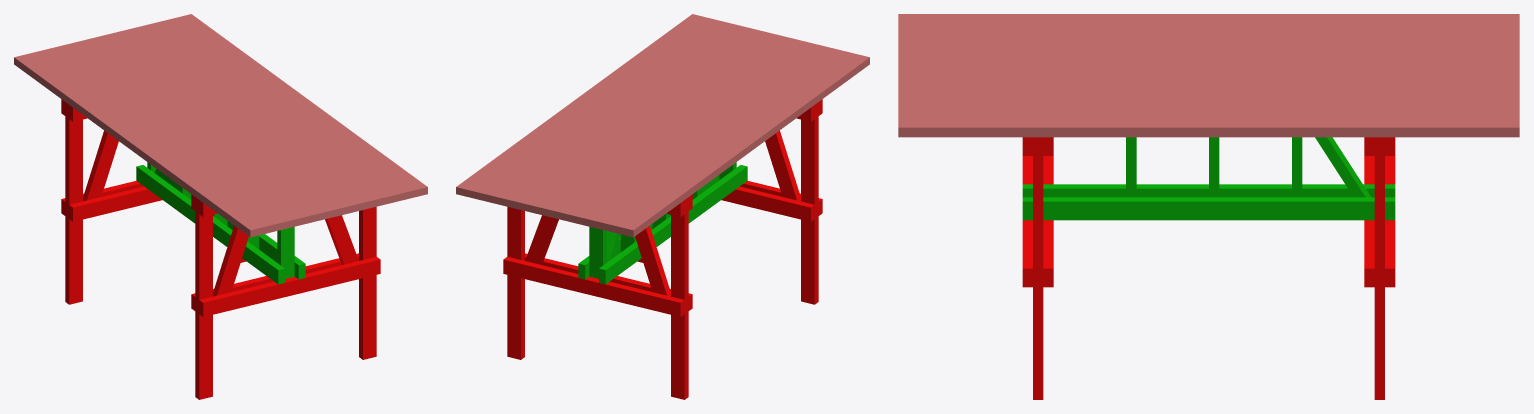
The model's file is result.glb.
The picture shows the model from 3 angles, left to right: view 1: azimuth 30°, elevation 25°; view 2: azimuth 150°, elevation 25°; view 3: azimuth 270°, elevation 25°; orthographic projection. The views are drawn at different scales.
Visible parts, largest first — view 1: b0586f3b-5cf7-4624-9a12-2de26cb5eb62__Box, 4f5f5a04-e8bf-4aa5-b398-d1218b56d758__undefined, 48368252-04d5-4c9a-8ca3-3093d8724194__undefined, cb004cd0-126e-4bdf-921c-02bd5b2841da__undefined, ff116451-bc79-4315-9933-1a0d0b4b3a0a__undefined, d62bb9ef-d72c-4dd8-9576-d7477d7428e3__undefined, cb3423f4-0cfe-44a3-9278-6f696bb8e01e__undefined, db9487e8-2ccb-49f6-85f3-dcad28f91a6f__undefined, 72c61431-7295-4567-88dc-ef0f62939e42__undefined, 63bb47c2-f0d3-4f05-8c6e-29381e884ad1__undefined, b76eb8d1-3186-4f83-baea-49685853d151__undefined, ff616138-a6b7-4d74-99c3-2d031c95f2d0__undefined (+14 smaller); view 2: b0586f3b-5cf7-4624-9a12-2de26cb5eb62__Box, 4f5f5a04-e8bf-4aa5-b398-d1218b56d758__undefined, 48368252-04d5-4c9a-8ca3-3093d8724194__undefined, cb004cd0-126e-4bdf-921c-02bd5b2841da__undefined, ff116451-bc79-4315-9933-1a0d0b4b3a0a__undefined, d62bb9ef-d72c-4dd8-9576-d7477d7428e3__undefined, cb3423f4-0cfe-44a3-9278-6f696bb8e01e__undefined, db9487e8-2ccb-49f6-85f3-dcad28f91a6f__undefined, 72c61431-7295-4567-88dc-ef0f62939e42__undefined, 63bb47c2-f0d3-4f05-8c6e-29381e884ad1__undefined, b76eb8d1-3186-4f83-baea-49685853d151__undefined, ff616138-a6b7-4d74-99c3-2d031c95f2d0__undefined (+14 smaller); view 3: 72c61431-7295-4567-88dc-ef0f62939e42__undefined, ccafe493-8d1b-4206-9c6c-1524c91371ca__strutH, 63bb47c2-f0d3-4f05-8c6e-29381e884ad1__undefined, 48368252-04d5-4c9a-8ca3-3093d8724194__undefined, cb004cd0-126e-4bdf-921c-02bd5b2841da__undefined, cb3423f4-0cfe-44a3-9278-6f696bb8e01e__undefined, db9487e8-2ccb-49f6-85f3-dcad28f91a6f__undefined, 15ef4906-4933-4ab5-80fa-d18e6e2f12e0__undefined, b0586f3b-5cf7-4624-9a12-2de26cb5eb62__Box, d62bb9ef-d72c-4dd8-9576-d7477d7428e3__undefined, b76eb8d1-3186-4f83-baea-49685853d151__undefined, ff616138-a6b7-4d74-99c3-2d031c95f2d0__undefined (+13 smaller).
Boxes of the visible parts, x1,y1,x2,y2 form: b0586f3b-5cf7-4624-9a12-2de26cb5eb62__Box: (14,54,263,237); 4f5f5a04-e8bf-4aa5-b398-d1218b56d758__undefined: (164,17,414,200); 48368252-04d5-4c9a-8ca3-3093d8724194__undefined: (42,47,291,230); cb004cd0-126e-4bdf-921c-02bd5b2841da__undefined: (83,37,332,220); ff116451-bc79-4315-9933-1a0d0b4b3a0a__undefined: (124,27,373,210); d62bb9ef-d72c-4dd8-9576-d7477d7428e3__undefined: (55,44,304,227); cb3423f4-0cfe-44a3-9278-6f696bb8e01e__undefined: (96,34,345,217); db9487e8-2ccb-49f6-85f3-dcad28f91a6f__undefined: (137,24,386,207); 72c61431-7295-4567-88dc-ef0f62939e42__undefined: (178,14,427,197); 63bb47c2-f0d3-4f05-8c6e-29381e884ad1__undefined: (28,50,277,233); b76eb8d1-3186-4f83-baea-49685853d151__undefined: (69,40,318,223); ff616138-a6b7-4d74-99c3-2d031c95f2d0__undefined: (110,30,359,213); b0586f3b-5cf7-4624-9a12-2de26cb5eb62__Box: (620,54,869,237); 4f5f5a04-e8bf-4aa5-b398-d1218b56d758__undefined: (469,17,719,200); 48368252-04d5-4c9a-8ca3-3093d8724194__undefined: (592,47,841,230); cb004cd0-126e-4bdf-921c-02bd5b2841da__undefined: (551,37,800,220); ff116451-bc79-4315-9933-1a0d0b4b3a0a__undefined: (510,27,759,210); d62bb9ef-d72c-4dd8-9576-d7477d7428e3__undefined: (579,44,828,227); cb3423f4-0cfe-44a3-9278-6f696bb8e01e__undefined: (538,34,787,217); db9487e8-2ccb-49f6-85f3-dcad28f91a6f__undefined: (497,24,746,207); 72c61431-7295-4567-88dc-ef0f62939e42__undefined: (456,14,705,197); 63bb47c2-f0d3-4f05-8c6e-29381e884ad1__undefined: (606,50,855,233); b76eb8d1-3186-4f83-baea-49685853d151__undefined: (565,40,814,223); ff616138-a6b7-4d74-99c3-2d031c95f2d0__undefined: (524,30,773,213); 72c61431-7295-4567-88dc-ef0f62939e42__undefined: (898,119,1519,137); ccafe493-8d1b-4206-9c6c-1524c91371ca__strutH: (1022,197,1395,220); 63bb47c2-f0d3-4f05-8c6e-29381e884ad1__undefined: (898,22,1519,31); 48368252-04d5-4c9a-8ca3-3093d8724194__undefined: (898,31,1519,40); cb004cd0-126e-4bdf-921c-02bd5b2841da__undefined: (898,57,1519,66); cb3423f4-0cfe-44a3-9278-6f696bb8e01e__undefined: (898,66,1519,75); db9487e8-2ccb-49f6-85f3-dcad28f91a6f__undefined: (898,92,1519,101); 15ef4906-4933-4ab5-80fa-d18e6e2f12e0__undefined: (898,101,1519,110); b0586f3b-5cf7-4624-9a12-2de26cb5eb62__Box: (898,14,1519,22); d62bb9ef-d72c-4dd8-9576-d7477d7428e3__undefined: (898,40,1519,48); b76eb8d1-3186-4f83-baea-49685853d151__undefined: (898,49,1519,57); ff616138-a6b7-4d74-99c3-2d031c95f2d0__undefined: (898,75,1519,83).
Bounding box in the file's own units: 650 × 725 × 1500.
